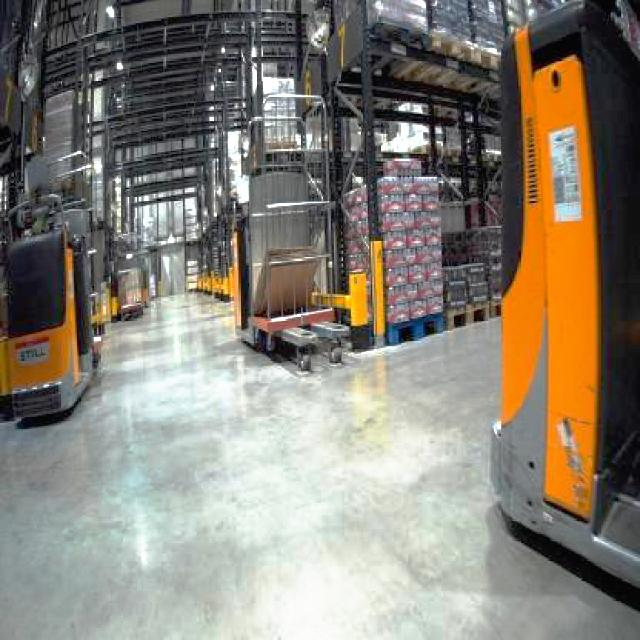ground: (0, 286, 638, 638)
pallet: (488, 0, 638, 628), (235, 0, 345, 366), (312, 155, 500, 348), (375, 155, 445, 337), (248, 243, 335, 351), (194, 211, 235, 300), (275, 325, 318, 371), (309, 318, 349, 362)
